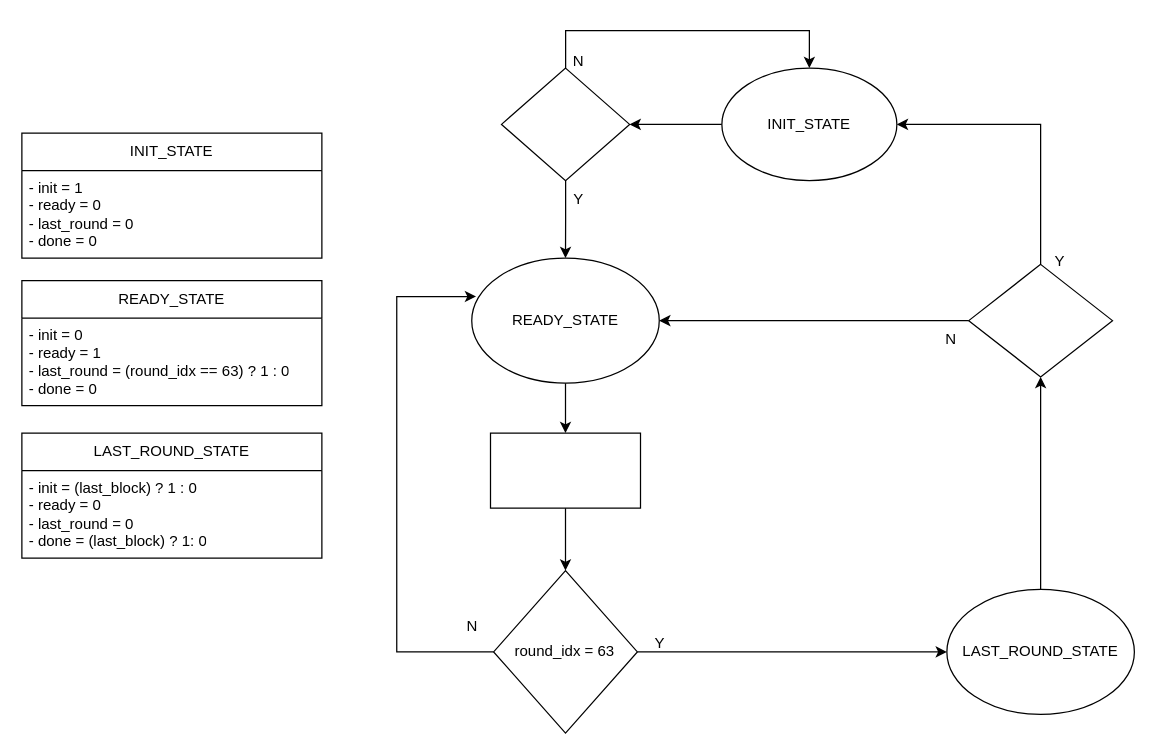
The diagram is 1156 pixels wide and 755 high, and some of its shapes have lost their labels. Here are the shapes that lost their labels. From the top down, the centre of each, then its label:
At point (565, 124): "start = 1".
At point (1040, 320): "last_block = 1".
At point (564, 470): "round_idx += 1".
